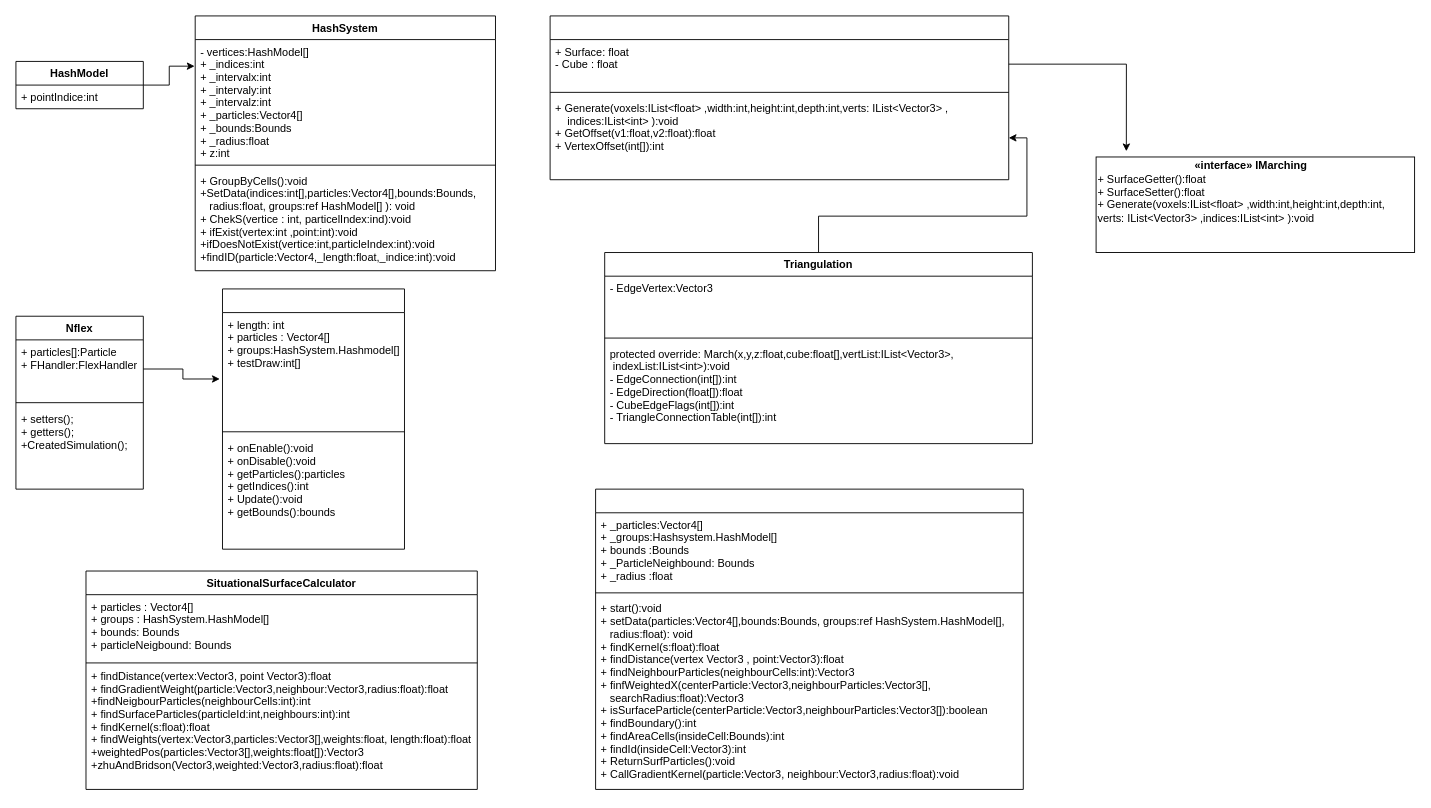
The diagram is 1431 pixels wide and 808 high, and some of its shapes have lost their labels. Here are the shapes that lost their labels. From the top down, the box of each, then its label:
(549, 15, 1009, 180): Marching(abstract)
(222, 288, 404, 549): Handler
(595, 488, 1023, 789): SurfaceRecognition
